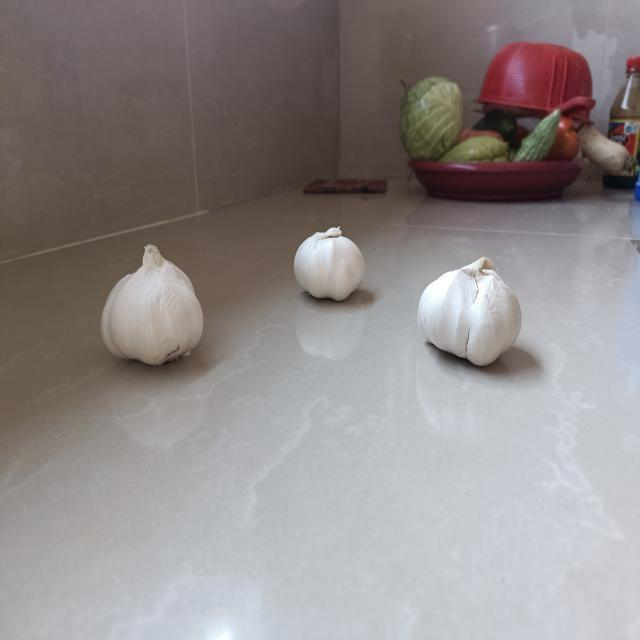garlic: (411, 253, 529, 375), (98, 243, 206, 375), (292, 222, 368, 303)
